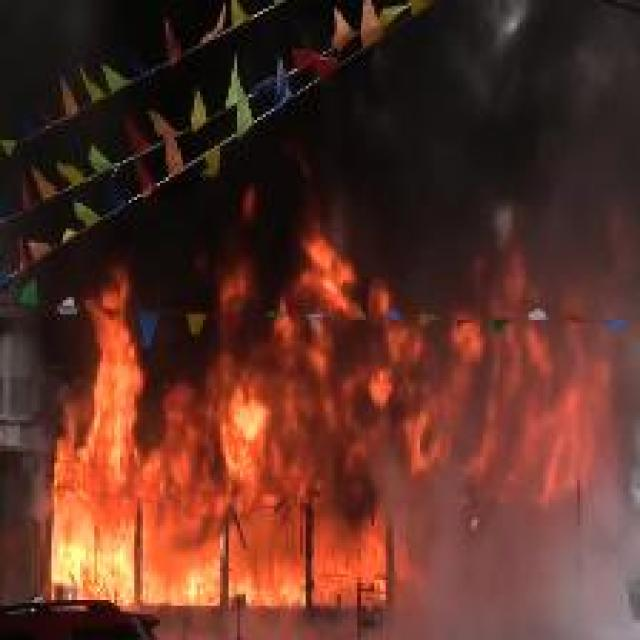fire: (59, 226, 633, 616)
